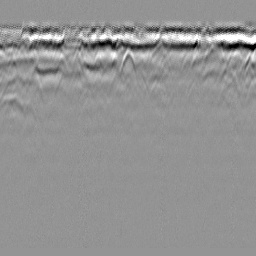cavity: (120, 47, 135, 77)
